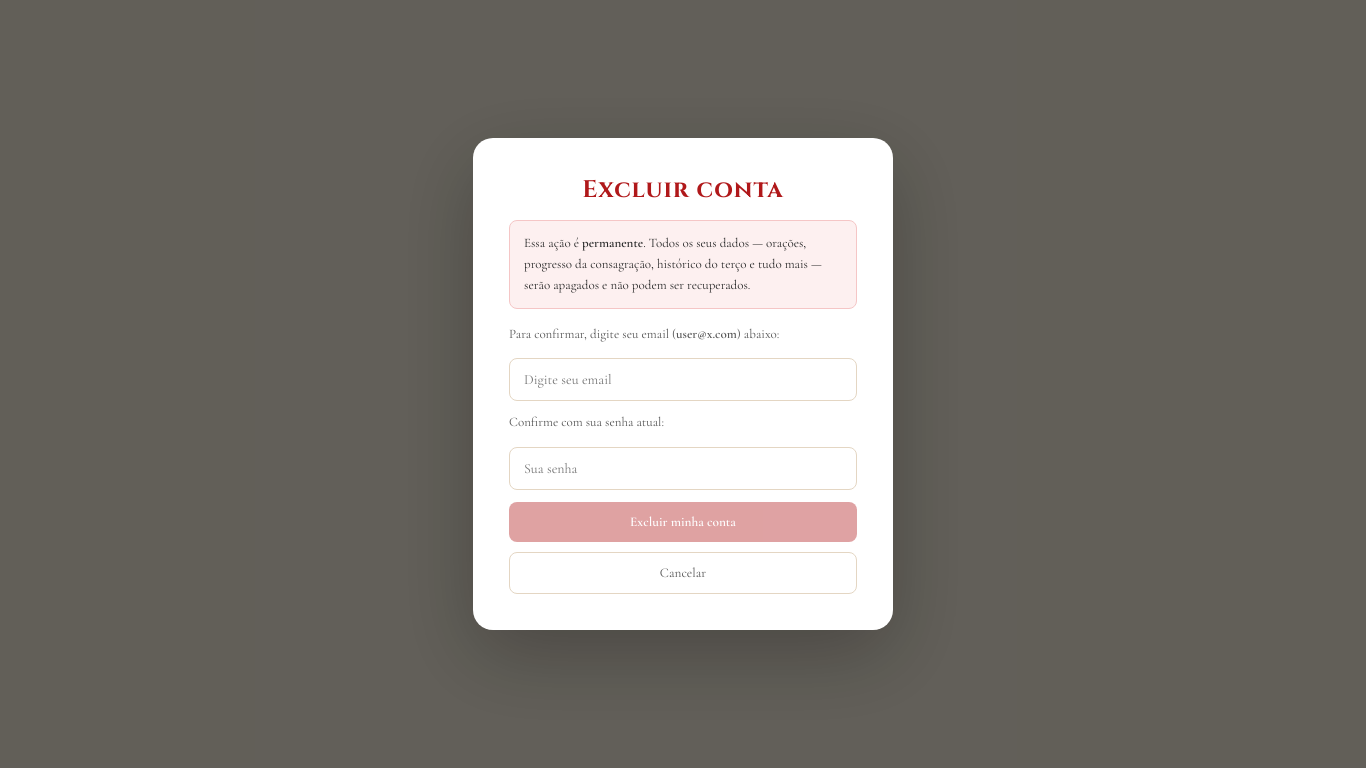
DeleteAccountModal › shows the translated error and does not clear the session when the password is wrong
Type "user@x.com" into the field with placeholder "Digite seu email" at (683, 380), box [509,358,857,401]
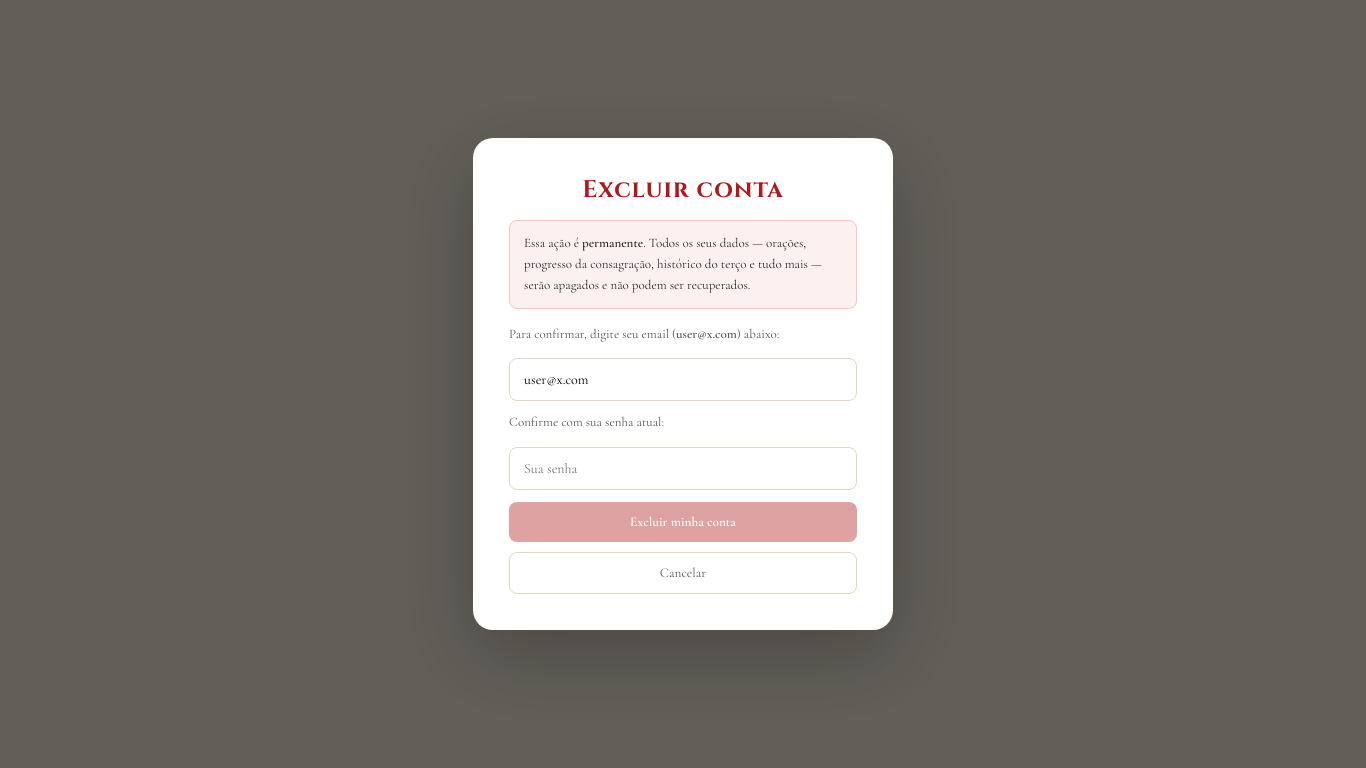
Type "bad" into the password field with placeholder "Sua senha" at (683, 468), box [509,447,857,490]
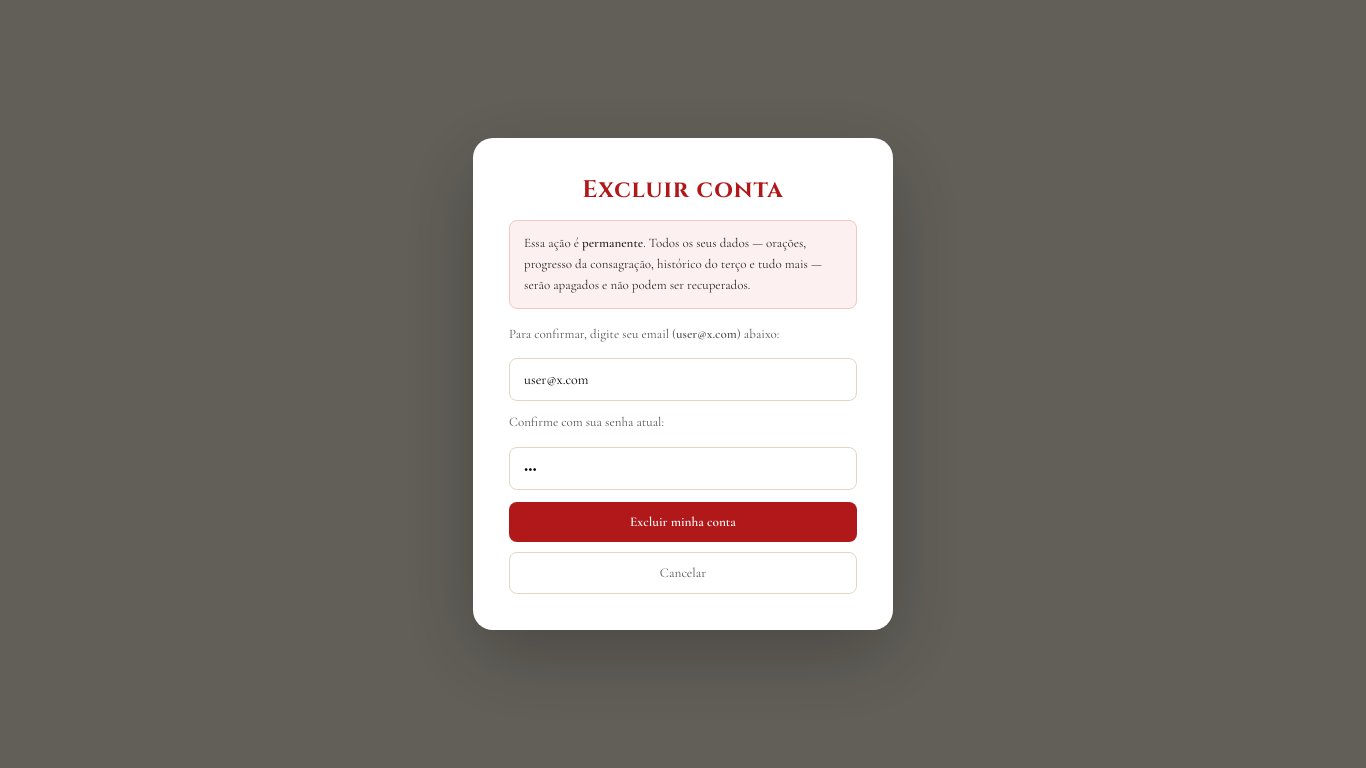
Click the button "Excluir minha conta" at (683, 522), box [509,502,857,542]
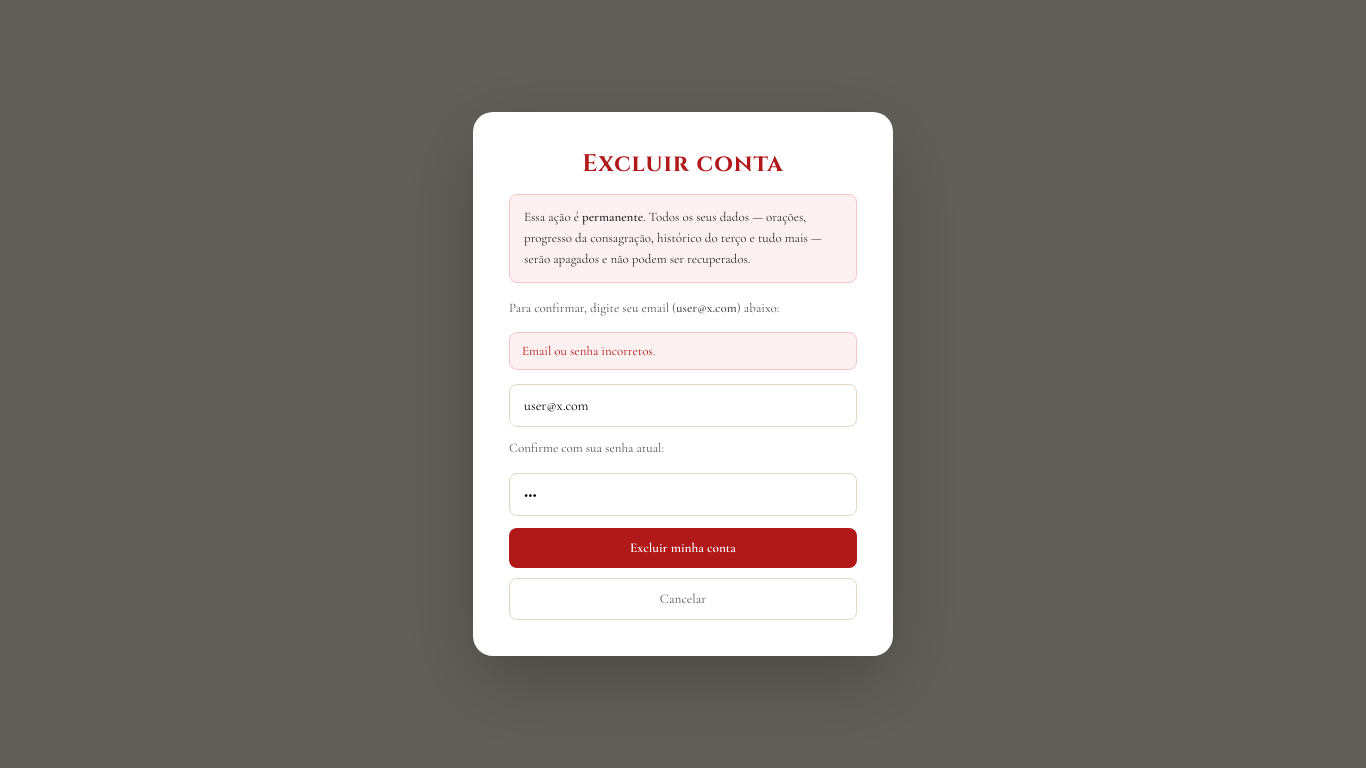
Now the text "Email ou senha incorretos." is shown, box [509,332,857,370]
